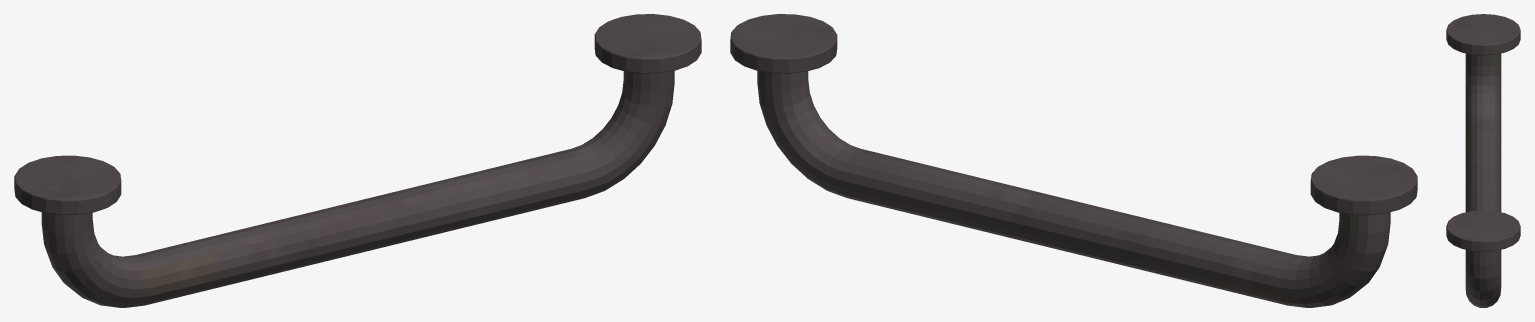
3 views of the same model, side by side, from view 1: azimuth 30°, elevation 25°; view 2: azimuth 150°, elevation 25°; view 3: azimuth 270°, elevation 25° (orthographic). The views are drawn at different scales.
Visible parts, largest first — view 1: unicolor_black.001; view 2: unicolor_black.001; view 3: unicolor_black.001.
Boxes of the visible parts, x1=… form: unicolor_black.001: x1=14, y1=14, x2=701, y2=307; unicolor_black.001: x1=730, y1=14, x2=1417, y2=307; unicolor_black.001: x1=1446, y1=14, x2=1520, y2=307.
Bounding box in the file's own units: 0.2386 × 0.0485 × 0.033.
1 material, 1 textured.
